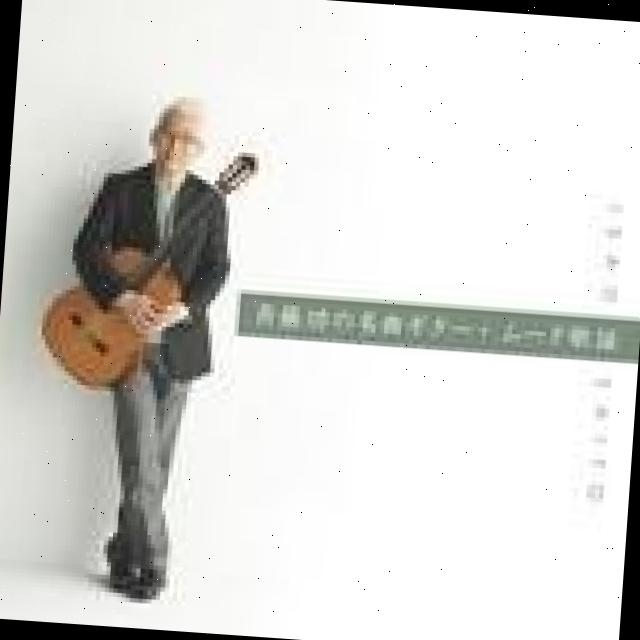guitar: (35, 136, 262, 400)
